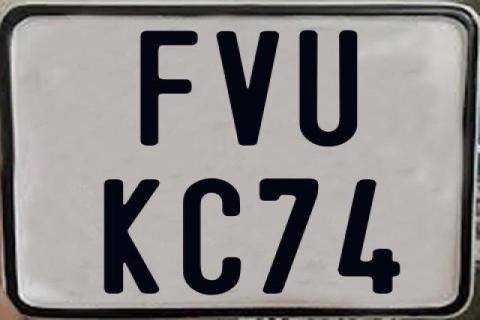0: (335, 179, 403, 295), (256, 177, 320, 295)
C: (182, 178, 244, 294)
F: (137, 30, 197, 146)
K: (104, 178, 163, 296)
U: (296, 31, 354, 151)
V: (213, 31, 280, 147)
